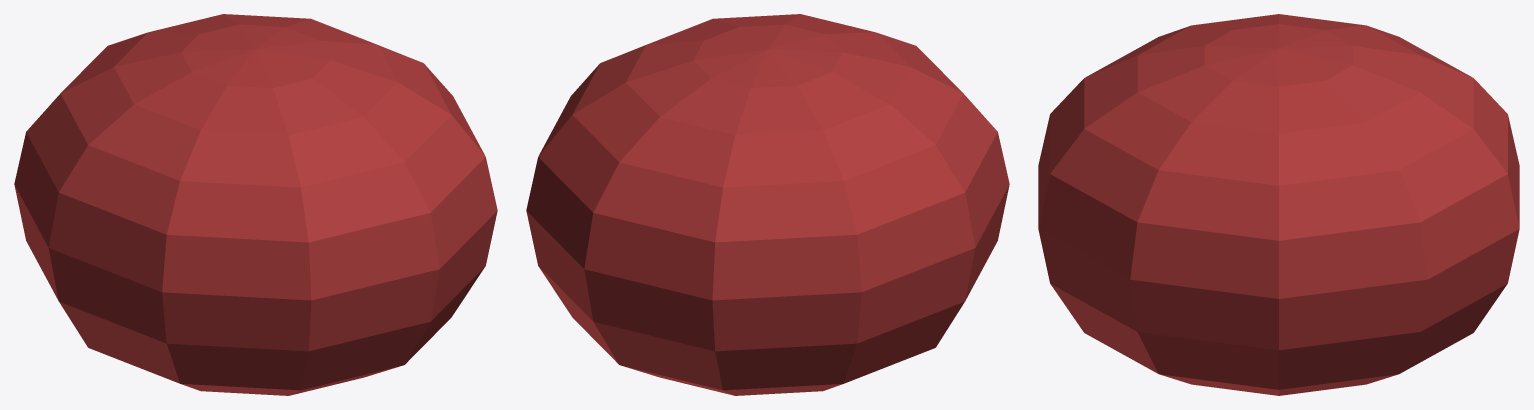
File: Tomato.fbx
3 renders of one model, left to right at view 1: azimuth 30°, elevation 25°; view 2: azimuth 150°, elevation 25°; view 3: azimuth 270°, elevation 25°, orthographic.
Visible parts, largest first — view 1: pasted__pasted__pSphere1; view 2: pasted__pasted__pSphere1; view 3: pasted__pasted__pSphere1.
Boxes of the visible parts, bbox=[...] form: pasted__pasted__pSphere1: bbox=[14, 14, 497, 395]; pasted__pasted__pSphere1: bbox=[526, 14, 1009, 395]; pasted__pasted__pSphere1: bbox=[1038, 14, 1519, 395].
Bounding box in the file's own units: 1.36 × 0.9197 × 1.36.
